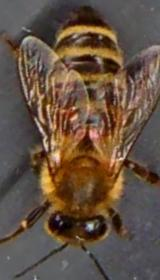varroa_mite: (56, 103, 80, 125)
